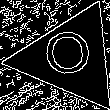O_S: (44, 30, 96, 85)
